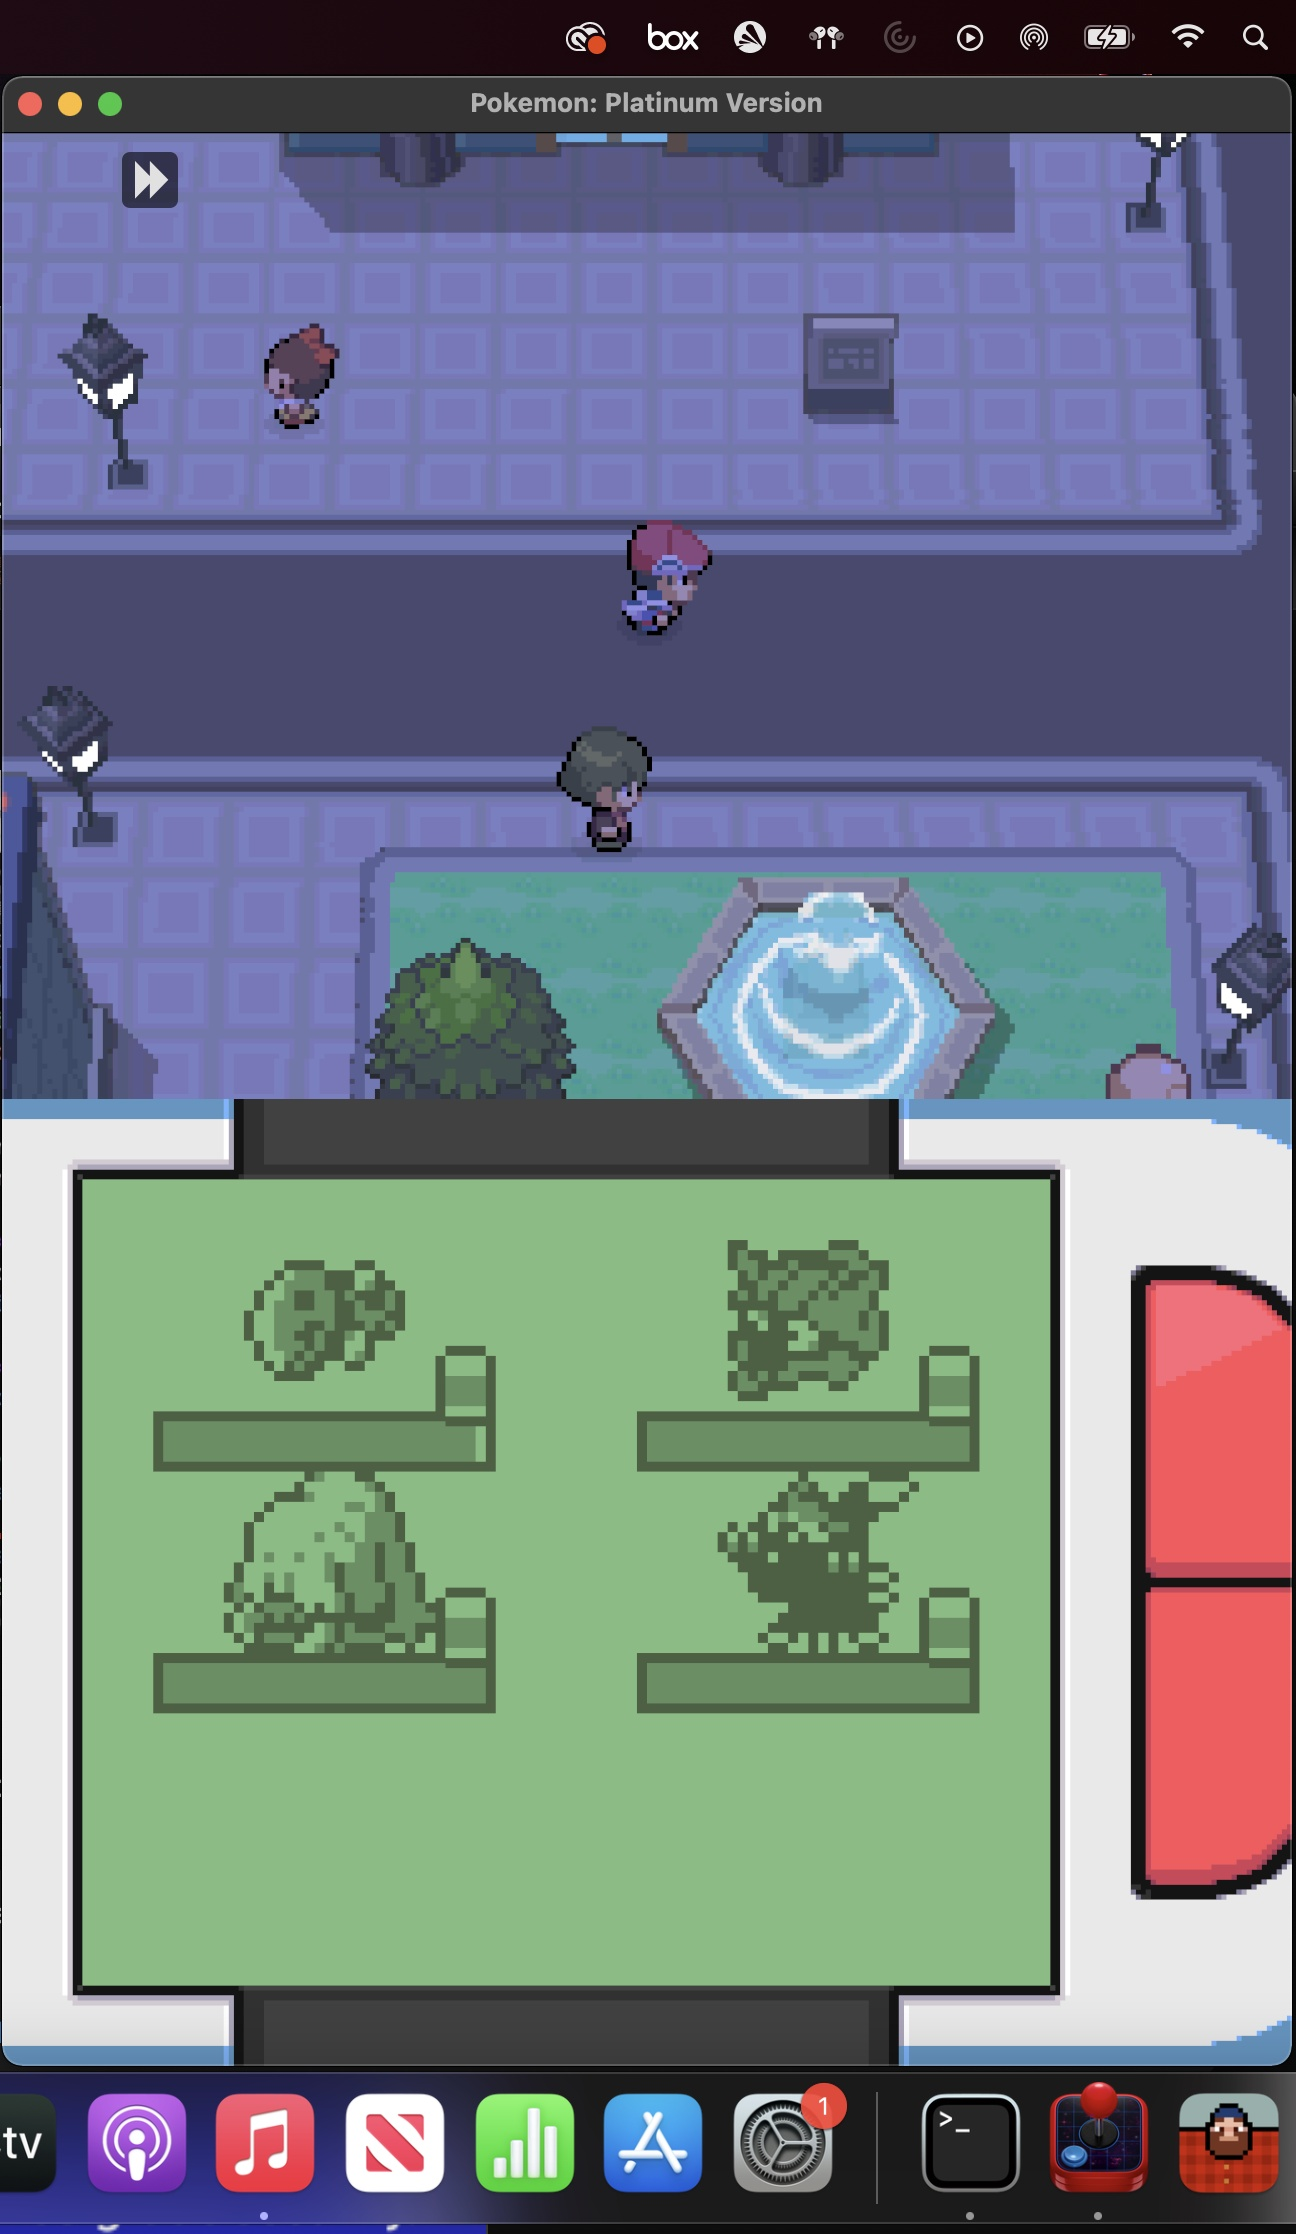player: (606, 512, 713, 651)
